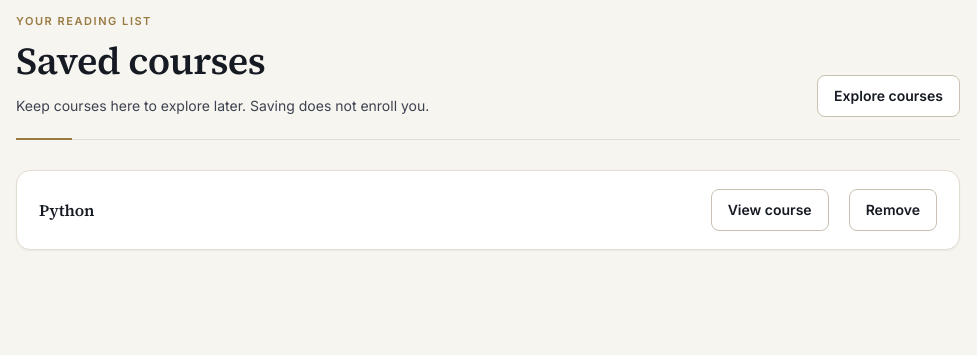
it: opens saved course details without fabricating enrollment and removes confirmed unsaves
Click the button with aria-label "Remove Python from saved courses". click: (893, 210)
box: [849,189,937,231]
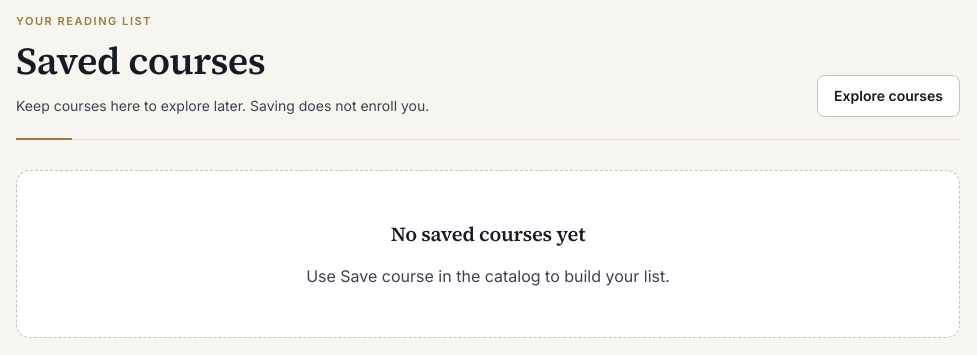
Result: the heading "No saved courses yet" is shown at [391,219,585,249]
